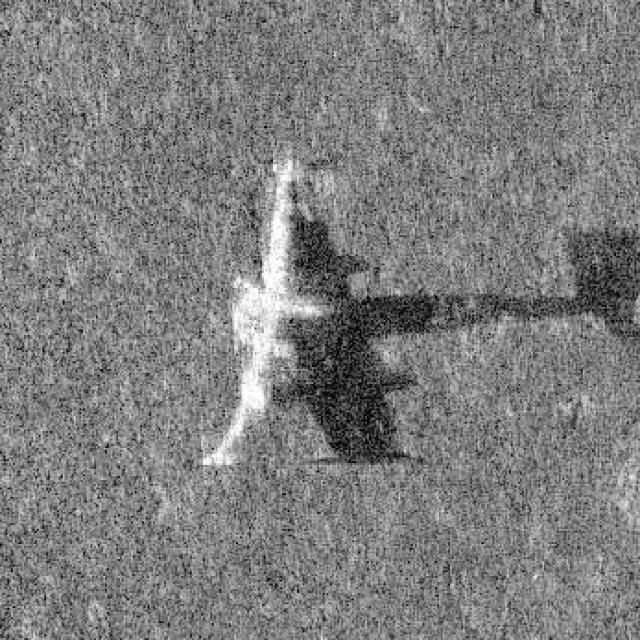plane: (171, 141, 452, 478)
